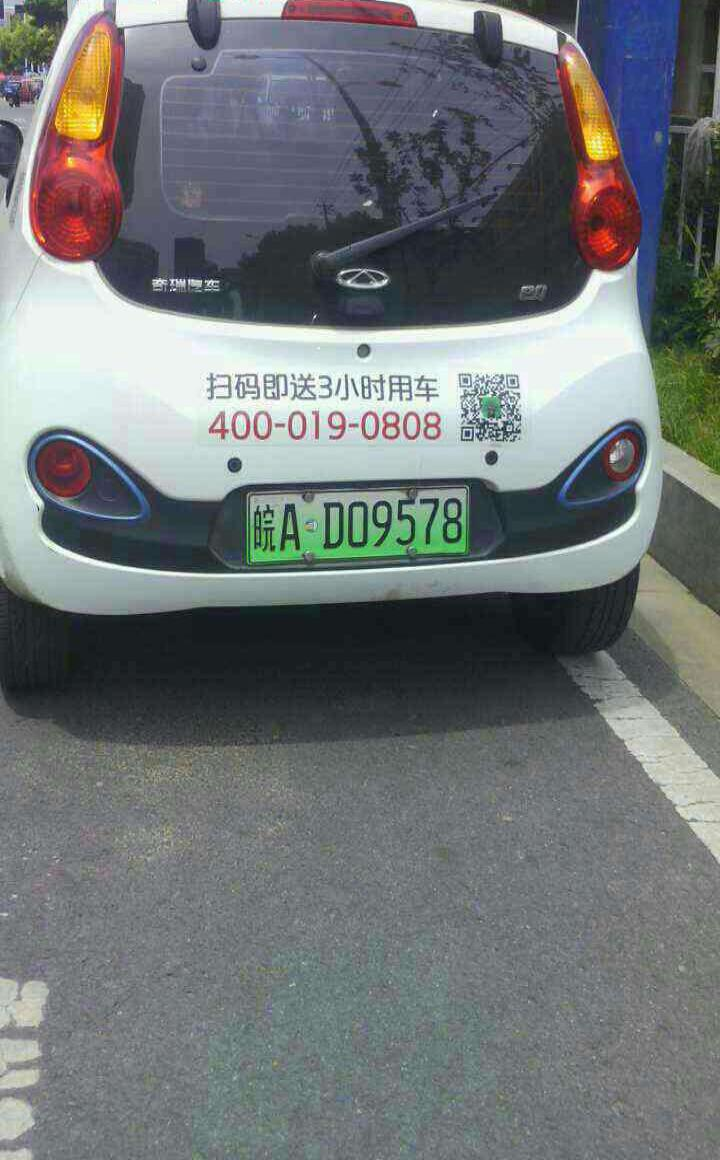car_id: (240, 488, 466, 562)
